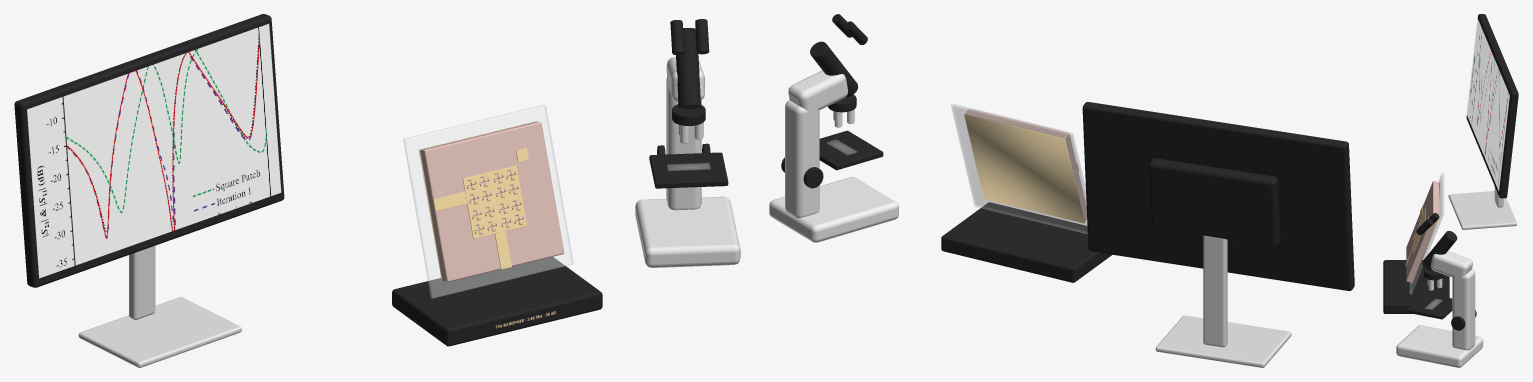
3 renders of one model, left to right at view 1: azimuth 30°, elevation 25°; view 2: azimuth 150°, elevation 25°; view 3: azimuth 270°, elevation 25°, orthographic. The views are drawn at different scales.
Visible parts, largest first — view 1: tz_monitor_screen, tz_sub, tz_stand_base, tz_monitor_bezel, tz_acrylic, ms_base, tz_monitor_foot, tz_patch, ms_stage, ms_pillar, tz_monitor_neck, ms_tube (+2 smaller); view 2: tz_monitor_bezel, tz_acrylic, tz_monitor_back, tz_ground, tz_stand_base, ms_base, tz_monitor_foot, ms_pillar, tz_monitor_neck, ms_arm, ms_stage, tz_sub (+1 smaller); view 3: tz_monitor_screen, ms_base, tz_stand_base, tz_monitor_bezel, tz_monitor_foot, ms_pillar, tz_sub, ms_stage, ms_arm, tz_acrylic, ms_tube, ms_turret (+5 smaller).
Boxes of the visible parts, bbox=[...] form: tz_monitor_screen: bbox=[27, 24, 281, 278]; tz_sub: bbox=[420, 121, 564, 282]; tz_stand_base: bbox=[392, 257, 602, 346]; tz_monitor_bezel: bbox=[14, 14, 284, 287]; tz_acrylic: bbox=[403, 105, 573, 298]; ms_base: bbox=[635, 196, 740, 267]; tz_monitor_foot: bbox=[78, 297, 241, 367]; tz_patch: bbox=[462, 165, 527, 238]; ms_stage: bbox=[649, 152, 728, 188]; ms_pillar: bbox=[666, 78, 701, 210]; tz_monitor_neck: bbox=[129, 246, 155, 319]; ms_tube: bbox=[676, 28, 700, 109]; tz_monitor_bezel: bbox=[1082, 102, 1354, 290]; tz_acrylic: bbox=[951, 104, 1087, 233]; tz_monitor_back: bbox=[1148, 158, 1280, 246]; tz_ground: bbox=[964, 114, 1084, 223]; tz_stand_base: bbox=[941, 202, 1112, 282]; ms_base: bbox=[769, 177, 898, 242]; tz_monitor_foot: bbox=[1155, 315, 1291, 367]; ms_pillar: bbox=[785, 100, 819, 218]; tz_monitor_neck: bbox=[1203, 235, 1227, 347]; ms_arm: bbox=[788, 70, 848, 111]; ms_stage: bbox=[819, 130, 883, 170]; tz_sub: bbox=[965, 108, 1086, 221]; tz_monitor_screen: bbox=[1466, 19, 1509, 191]; ms_base: bbox=[1396, 325, 1483, 367]; tz_stand_base: bbox=[1383, 260, 1449, 313]; tz_monitor_bezel: bbox=[1466, 14, 1518, 198]; tz_monitor_foot: bbox=[1448, 191, 1517, 229]; ms_pillar: bbox=[1452, 269, 1475, 350]; tz_sub: bbox=[1406, 181, 1438, 283]; ms_stage: bbox=[1407, 293, 1452, 319]; ms_arm: bbox=[1430, 251, 1472, 278]; tz_acrylic: bbox=[1410, 172, 1443, 294]; ms_tube: bbox=[1422, 231, 1457, 269]; ms_turret: bbox=[1424, 268, 1443, 280].
Bounding box in the file's own units: 1.42 × 0.5247 × 0.4091.
10 materials, 1 textured.
